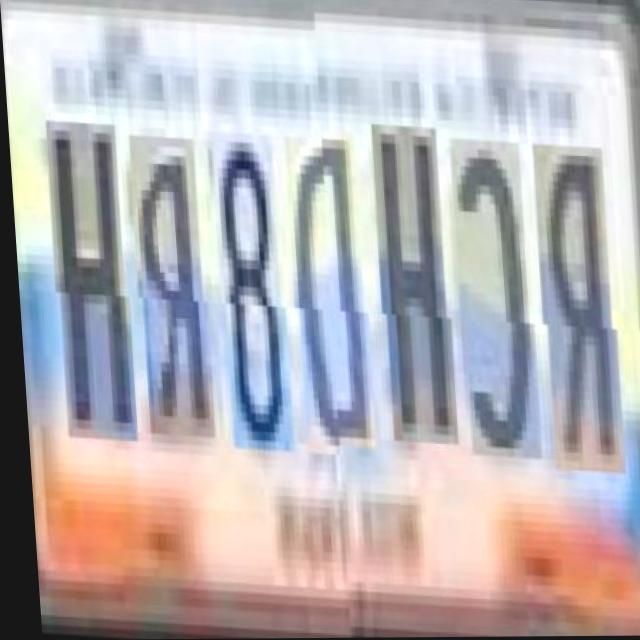8: (209, 138, 287, 459)
c: (446, 151, 534, 471)
d: (282, 142, 369, 463)
h: (42, 130, 130, 451), (368, 138, 451, 458)
r: (529, 155, 617, 485), (126, 143, 207, 446)
